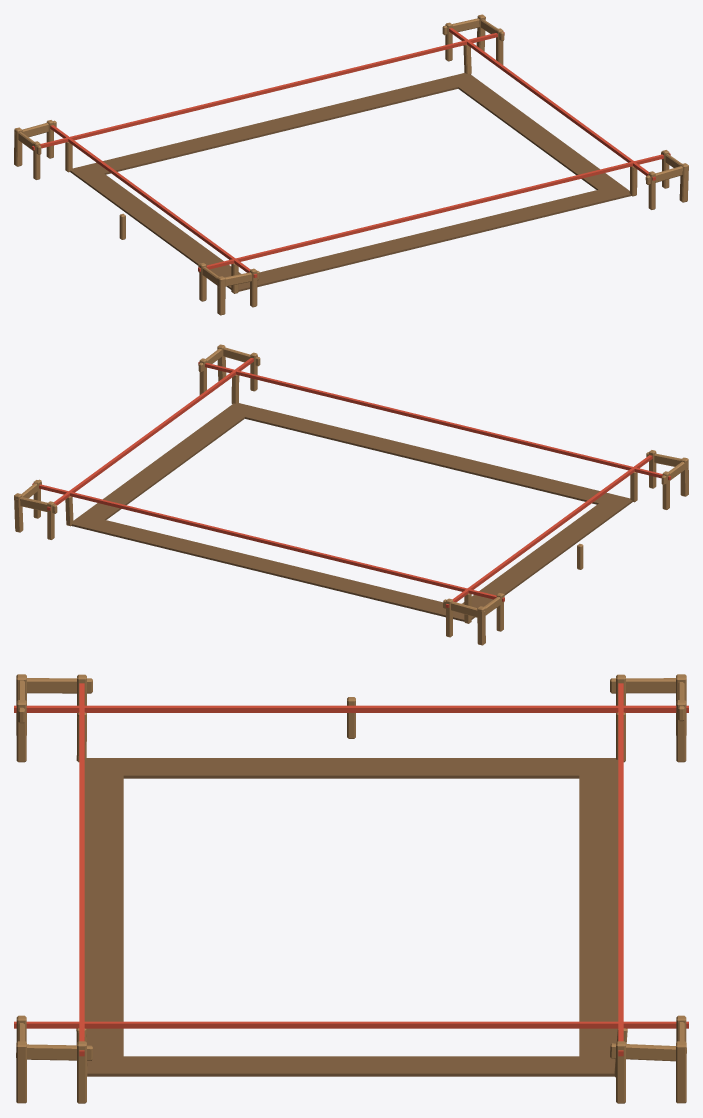
The model's file is family-home-planned.glb.
The picture shows the model from 3 angles, top to bottom: view 1: azimuth 30°, elevation 25°; view 2: azimuth 150°, elevation 25°; view 3: azimuth 270°, elevation 25°; orthographic projection. The views are drawn at different scales.
Visible parts, largest first — view 1: dug_outline, string_lines, stakes; view 2: dug_outline, string_lines, stakes; view 3: dug_outline, string_lines, stakes.
Part boxes in pixels (x1=…): dug_outline: x1=70, y1=73, x2=631, y2=291; string_lines: x1=32, y1=28, x2=670, y2=277; stakes: x1=14, y1=14, x2=688, y2=315; dug_outline: x1=71, y1=403, x2=632, y2=621; string_lines: x1=32, y1=356, x2=670, y2=607; stakes: x1=14, y1=344, x2=688, y2=645; dug_outline: x1=84, y1=758, x2=618, y2=1076; string_lines: x1=14, y1=683, x2=688, y2=1056; stakes: x1=16, y1=674, x2=686, y2=1103.
Size of the model in its own units: 8.06 by 0.6025 by 6.16.
